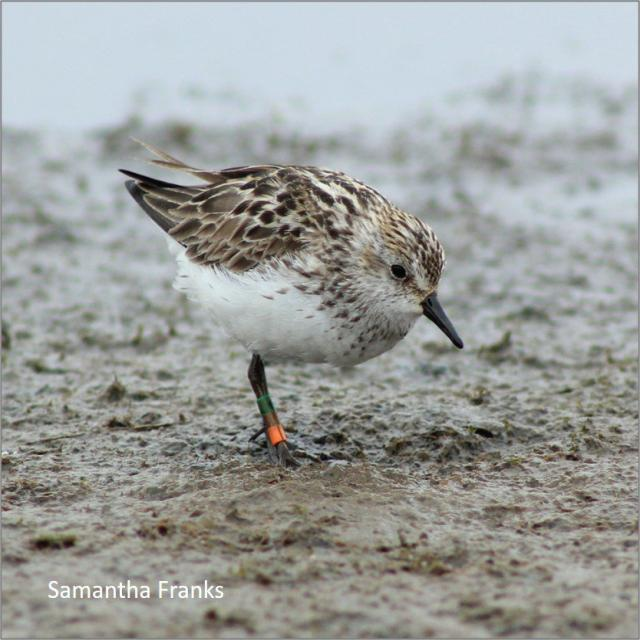Sandpiper: (119, 150, 470, 469)
